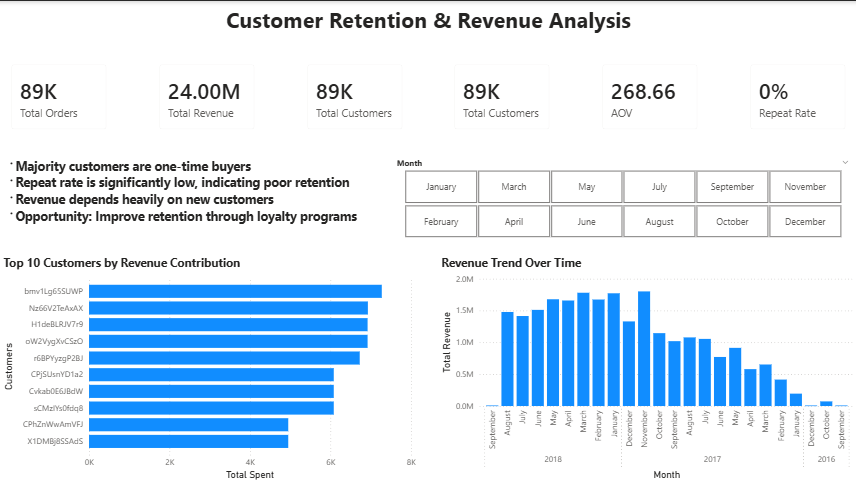

The dashboard page shown, as its layout file describes it:
{"tool":"powerbi","page":{"name":"Page 1","canvas":[1280,720],"ordinal":0},"visuals":[{"type":"clusteredBarChart","title":"Top 10 Customers by Revenue Contribution","fields":{"Category":["top_customers.customer_id"],"Y":["Sum(top_customers.total_spent)"]},"box":[0,377.9,625.9,342.1],"z":0},{"type":"clusteredColumnChart","title":"Revenue Trend Over Time","fields":{"Y":["Sum(monthly_revenue.revenue)"],"Category":["monthly_revenue.month.Variation.Date Hierarchy.Year","monthly_revenue.month.Variation.Date Hierarchy.Month"]},"box":[654.3,377.9,625.9,342.1],"z":1},{"type":"textbox","box":[0,228.5,555.7,131.5],"z":2},{"type":"slicer","fields":{"Values":["monthly_revenue.month.Variation.Date Hierarchy.Month"]},"box":[579.6,228.5,700.6,131.5],"z":3},{"type":"textbox","box":[0,0,1280.2,61.2],"z":4},{"type":"cardVisual","fields":{"Data":["Sum(total_orders.total_orders)"]},"box":[0,77.7,176.3,131.5],"z":5},{"type":"cardVisual","fields":{"Data":["Sum(total_revenue.total_revenue)"]},"box":[220.8,77.7,176.3,131.5],"z":6},{"type":"cardVisual","fields":{"Data":["Sum(total_customers.total_customers)"]},"box":[441.6,77.7,176.3,131.5],"z":7},{"type":"cardVisual","fields":{"Data":["Sum(total_customers.total_customers)"]},"box":[662.3,77.7,176.3,131.5],"z":8},{"type":"cardVisual","fields":{"Data":["Sum(aov.avg_order_value)"]},"box":[883.1,77.7,176.3,131.5],"z":9},{"type":"cardVisual","fields":{"Data":["repeating_customers.Repeat Rate"]},"box":[1103.7,77.7,176.3,131.5],"z":10}]}

Visuals, with their boxes in screenshot pixels (x1, y1, x2, y2), scaled from the page's 1280x720 canvas onto the 856x481 screenshot:
"Top 10 Customers by Revenue Contribution" clusteredBarChart: pyautogui.locateOnScreen(0, 252, 419, 480)
"Revenue Trend Over Time" clusteredColumnChart: pyautogui.locateOnScreen(438, 252, 855, 480)
textbox: pyautogui.locateOnScreen(0, 153, 372, 240)
slicer - monthly_revenue.month.Variation.Date Hierarchy.Month: pyautogui.locateOnScreen(388, 153, 855, 240)
textbox: pyautogui.locateOnScreen(0, 0, 855, 41)
cardVisual - Sum(total_orders.total_orders): pyautogui.locateOnScreen(0, 52, 118, 140)
cardVisual - Sum(total_revenue.total_revenue): pyautogui.locateOnScreen(148, 52, 266, 140)
cardVisual - Sum(total_customers.total_customers): pyautogui.locateOnScreen(295, 52, 413, 140)
cardVisual - Sum(total_customers.total_customers): pyautogui.locateOnScreen(443, 52, 561, 140)
cardVisual - Sum(aov.avg_order_value): pyautogui.locateOnScreen(591, 52, 708, 140)
cardVisual - repeating_customers.Repeat Rate: pyautogui.locateOnScreen(738, 52, 855, 140)
